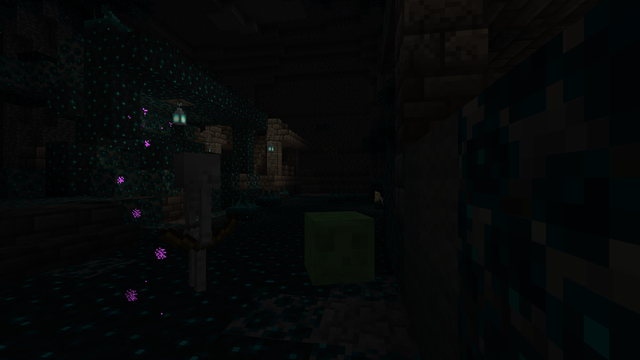slimes: (300, 209, 366, 286)
squelettes: (164, 153, 225, 297)
